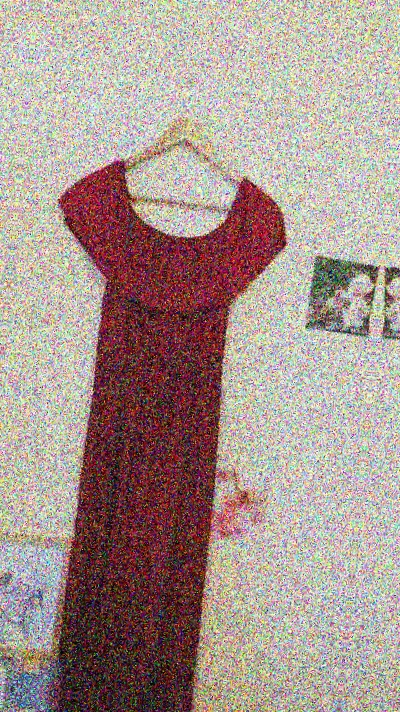Dress: (2, 88, 310, 708), (0, 694, 251, 712)
